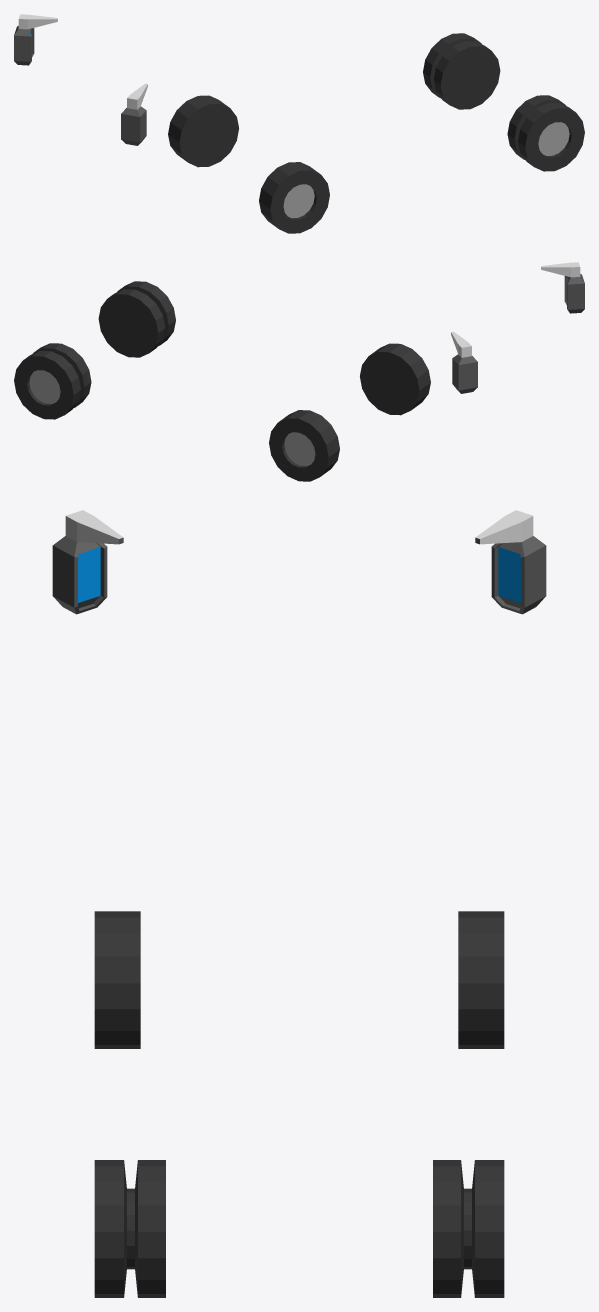
The model's file is EV_Car_2.glb.
The picture shows the model from 3 angles, top to bottom: view 1: azimuth 30°, elevation 25°; view 2: azimuth 150°, elevation 25°; view 3: azimuth 270°, elevation 25°; orthographic projection. The views are drawn at different scales.
Visible parts, largest first — view 1: wheel3, wheel4, wheel1, wheel2, window; view 2: wheel4, wheel3, wheel2, wheel1, window; view 3: window, wheel3, wheel4, wheel1, wheel2.
Boxes of the visible parts, x1=… form: wheel3: x1=507, y1=95, x2=584, y2=171; wheel4: x1=423, y1=33, x2=500, y2=109; wheel1: x1=259, y1=162, x2=329, y2=233; wheel2: x1=168, y1=95, x2=238, y2=167; window: x1=14, y1=14, x2=147, y2=145; wheel4: x1=14, y1=343, x2=91, y2=419; wheel3: x1=98, y1=281, x2=175, y2=357; wheel2: x1=269, y1=410, x2=339, y2=481; wheel1: x1=360, y1=343, x2=430, y2=415; window: x1=451, y1=262, x2=584, y2=393; window: x1=52, y1=510, x2=546, y2=614; wheel3: x1=94, y1=1160, x2=165, y2=1297; wheel4: x1=433, y1=1160, x2=504, y2=1297; wheel1: x1=94, y1=911, x2=140, y2=1048; wheel2: x1=458, y1=911, x2=504, y2=1048.
Bounding box in the file's own units: 3.41 × 1.26 × 1.56.
